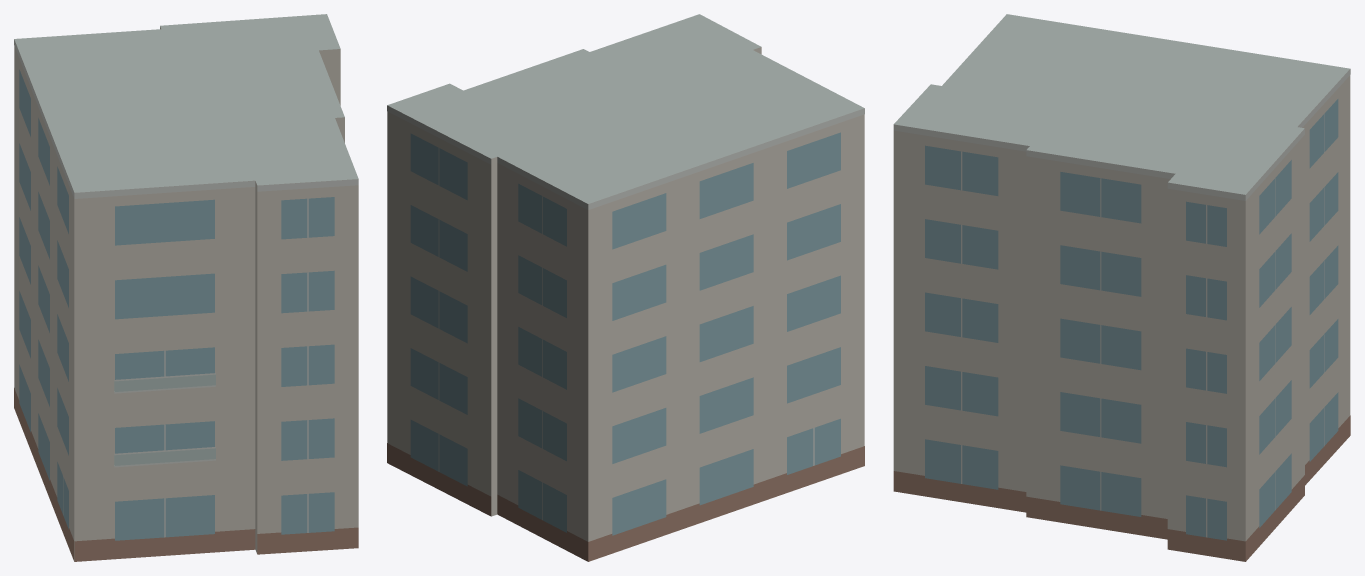
The model's file is survey-upis-33022908.glb.
3 renders of one model, left to right at view 1: azimuth 30°, elevation 25°; view 2: azimuth 150°, elevation 25°; view 3: azimuth 270°, elevation 25°, orthographic. The views are drawn at different scales.
Visible parts, largest first — view 1: survey-upis-33022908.tmp; view 2: survey-upis-33022908.tmp; view 3: survey-upis-33022908.tmp.
Boxes of the visible parts, x1,y1,x2,y2 form: survey-upis-33022908.tmp: (14, 14, 358, 561); survey-upis-33022908.tmp: (387, 14, 864, 561); survey-upis-33022908.tmp: (893, 14, 1350, 561).
Bounding box in the file's own units: 15.33 × 14.5 × 16.37.
